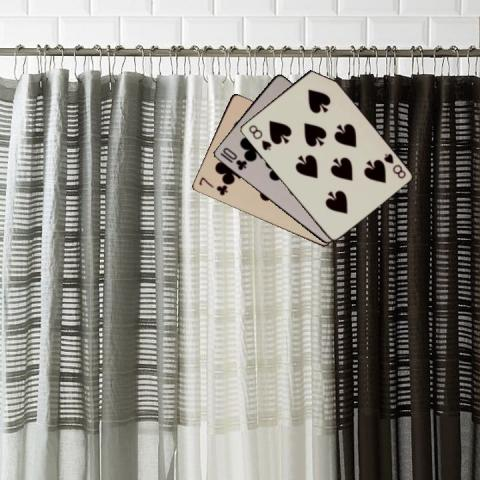10c: (217, 145, 248, 172)
7c: (195, 174, 229, 197)
8s: (245, 122, 273, 151), (380, 151, 406, 180)
